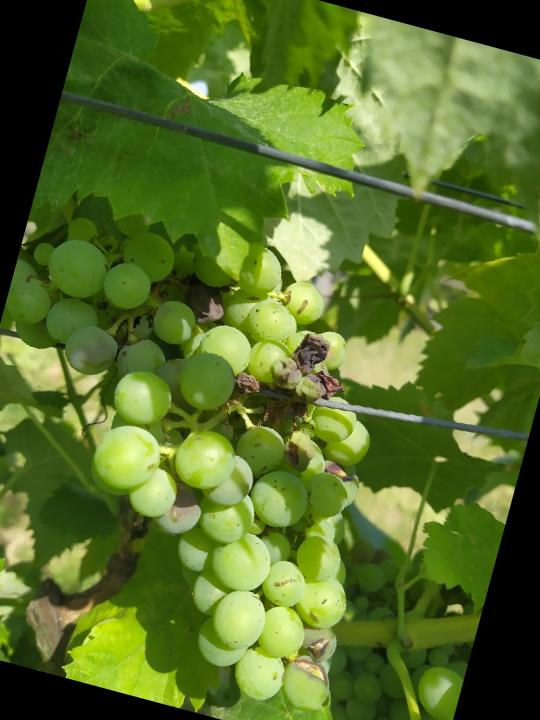grape: (0, 189, 439, 720)
